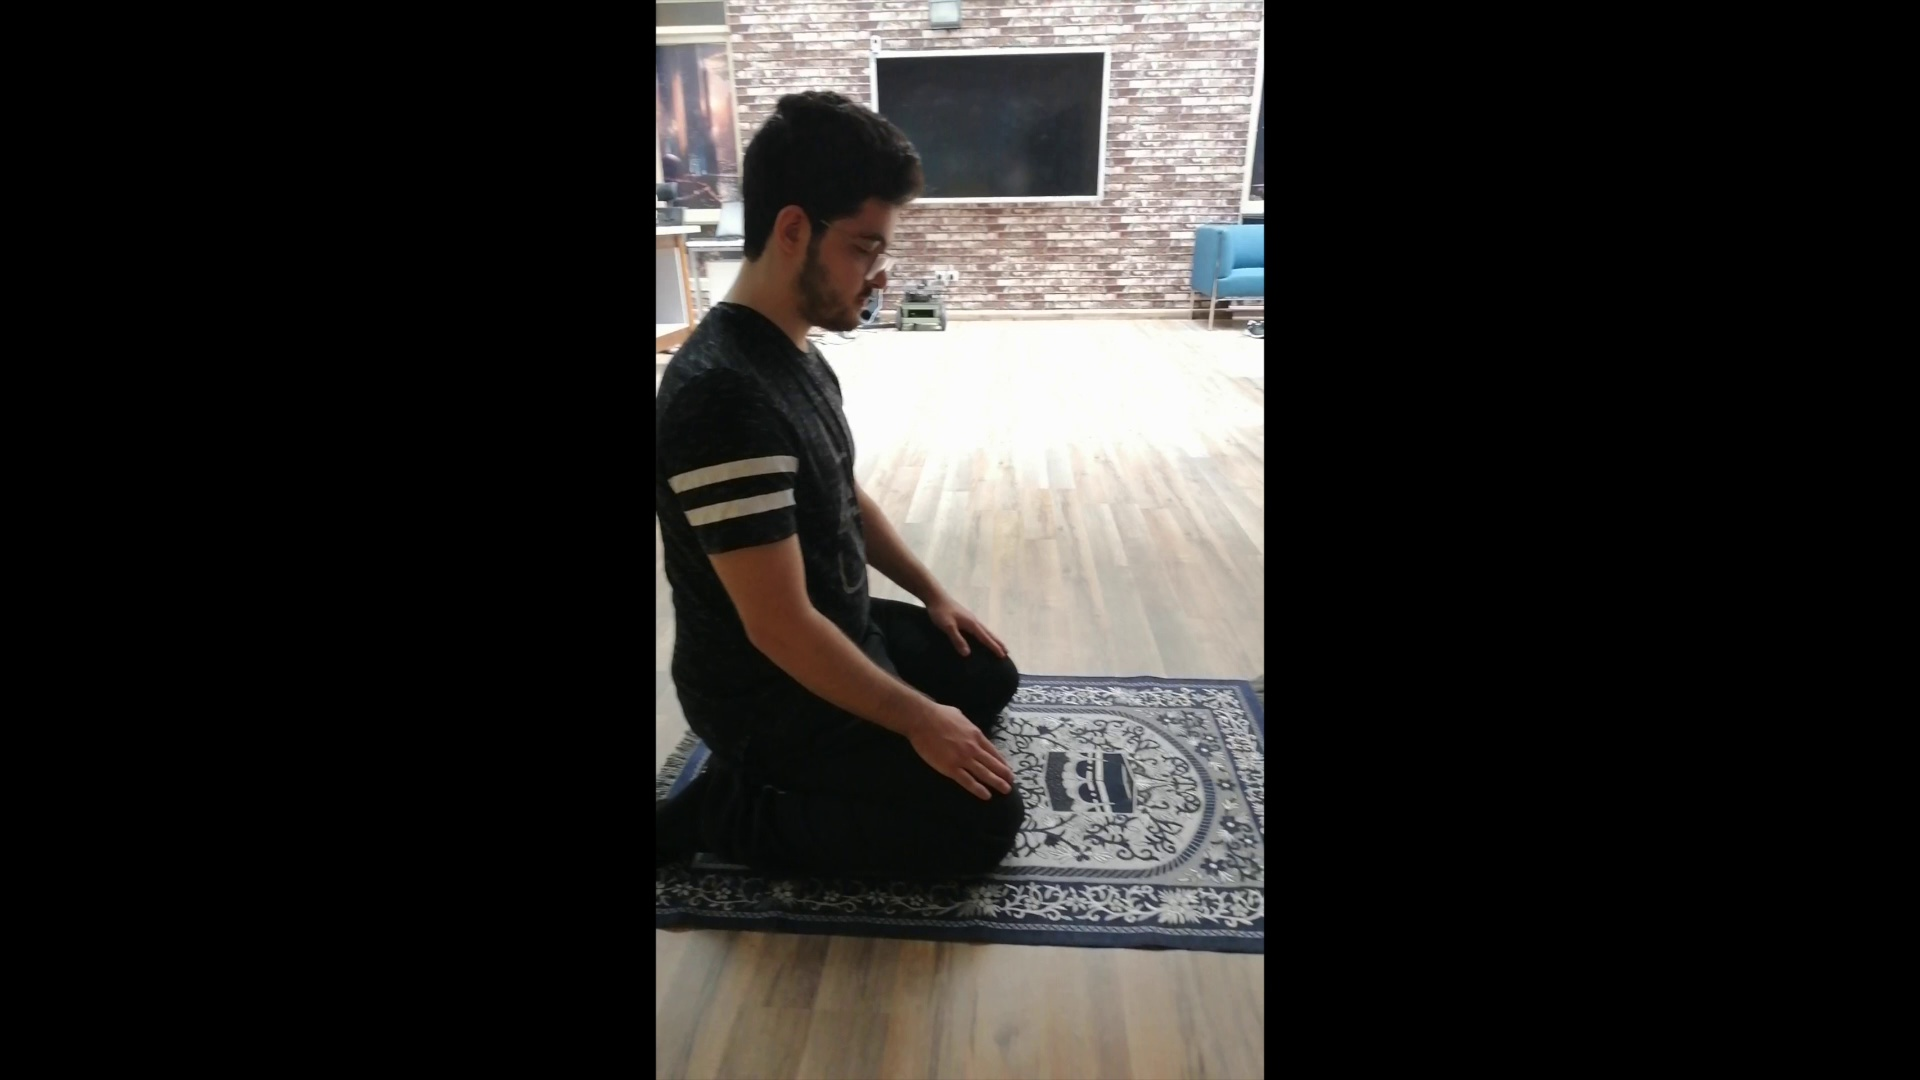sitting: (651, 80, 1034, 898)
